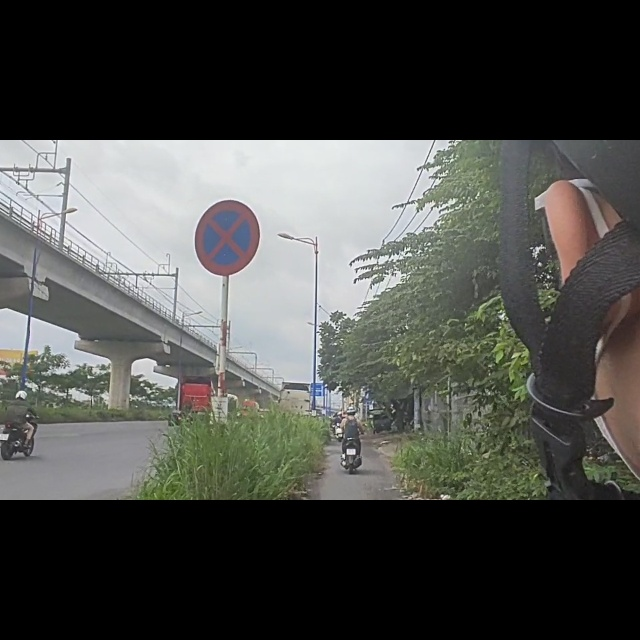bien_cam: (183, 94, 269, 252)
